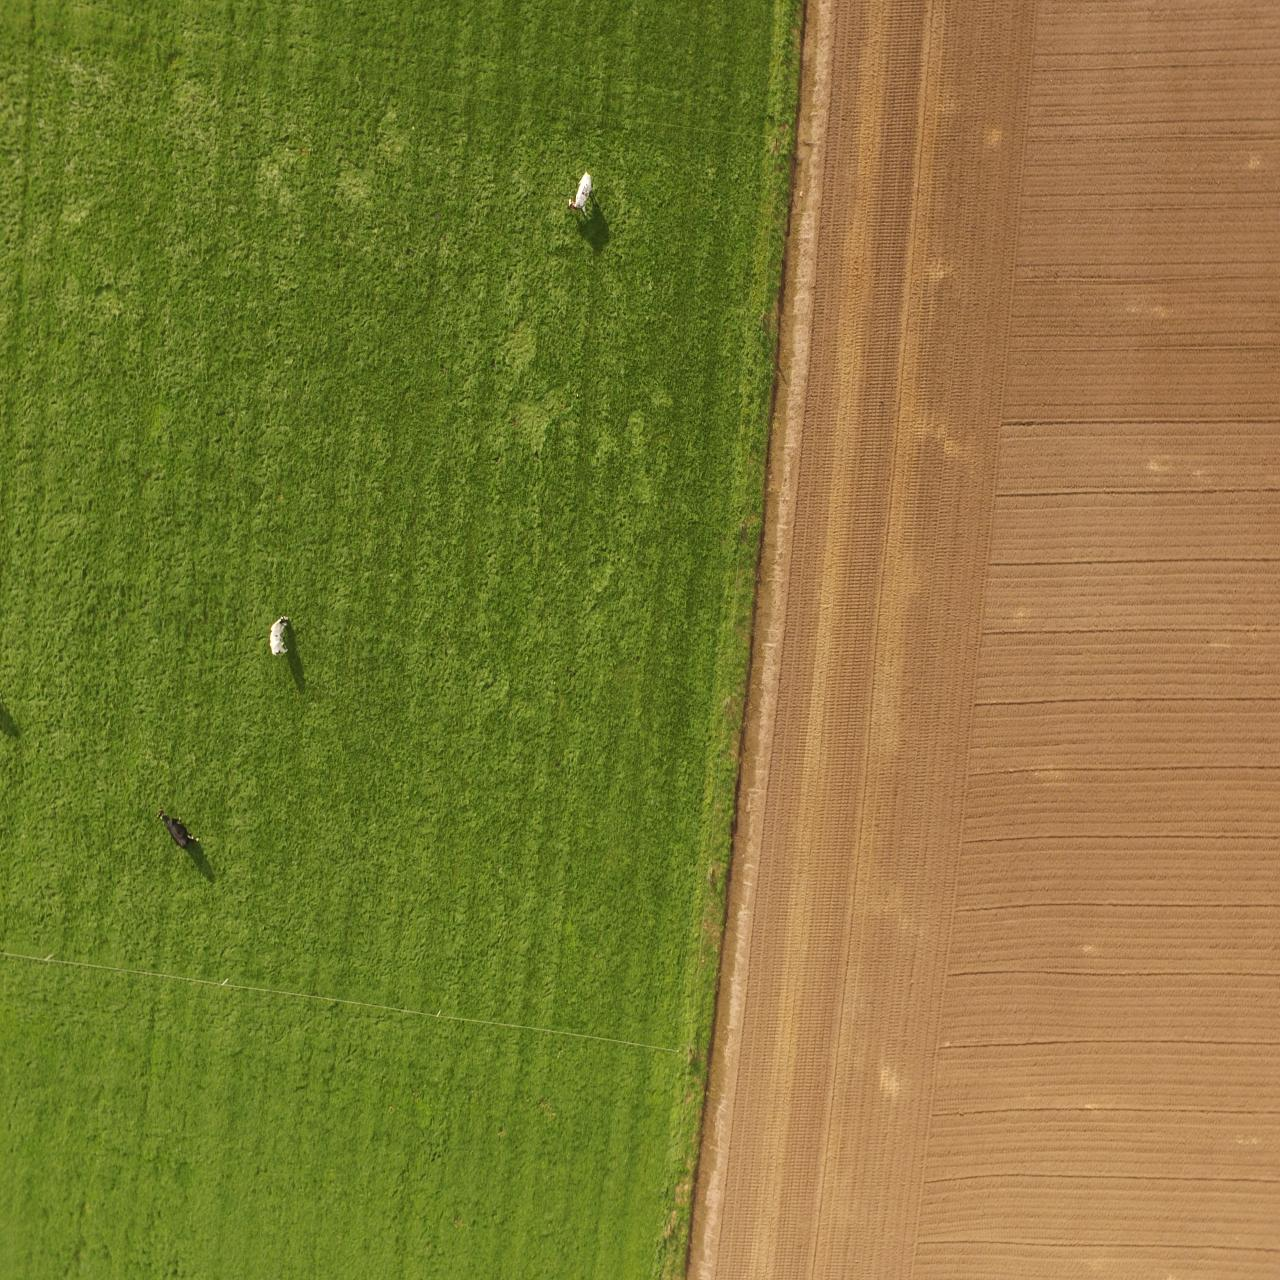cow: (156, 801, 198, 856), (562, 160, 598, 223), (264, 604, 297, 663)
